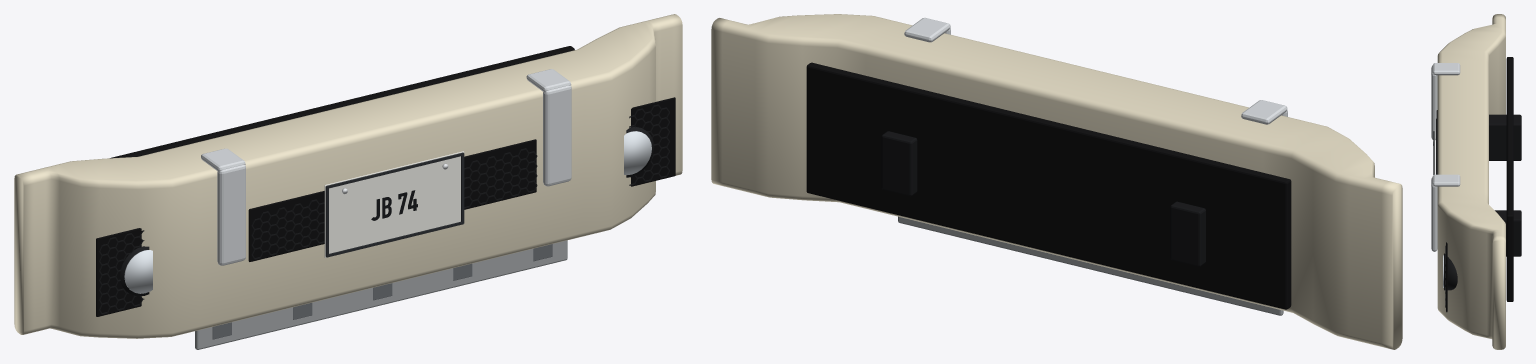
File: frontBumper_damd_little_g_std.glb
3 renders of one model, left to right at view 1: azimuth 30°, elevation 25°; view 2: azimuth 150°, elevation 25°; view 3: azimuth 270°, elevation 25°, orthographic. The views are drawn at different scales.
Parts seen in each view (by area): view 1: body.015, plate.020, centreBay, skid.006, valance.017, rider1, rider-1, bay-1, bay1, fogLens-575, fogLens575, riderTop-1 (+4 smaller); view 2: body.015, valance.017, skid.006, mount1.017, mount-1.017, riderTop1, riderTop-1; view 3: body.015, valance.017, mount-1.017, mount1.017, rider1, rider-1, riderTop1, riderTop-1, fogHsg575, bay1, centreBay, plate.020 (+1 smaller).
Part boxes in pixels (left/top/right/bottom): body.015: left=14, top=14, right=682, bottom=338; plate.020: left=324, top=151, right=464, bottom=257; centreBay: left=248, top=139, right=536, bottom=261; skid.006: left=195, top=240, right=567, bottom=349; valance.017: left=110, top=46, right=574, bottom=158; rider1: left=543, top=85, right=571, bottom=186; rider-1: left=217, top=165, right=245, bottom=265; bay-1: left=96, top=228, right=141, bottom=316; bay1: left=631, top=97, right=675, bottom=186; fogLens-575: left=124, top=250, right=152, bottom=293; fogLens575: left=624, top=131, right=651, bottom=175; riderTop-1: left=201, top=148, right=245, bottom=171; body.015: left=711, top=14, right=1402, bottom=349; valance.017: left=806, top=62, right=1291, bottom=309; skid.006: left=898, top=216, right=1283, bottom=315; mount1.017: left=881, top=131, right=917, bottom=196; mount-1.017: left=1170, top=201, right=1205, bottom=266; riderTop1: left=904, top=17, right=950, bottom=42; riderTop-1: left=1241, top=100, right=1287, bottom=124; body.015: left=1437, top=14, right=1505, bottom=349; valance.017: left=1506, top=57, right=1513, bottom=301; mount-1.017: left=1489, top=114, right=1521, bottom=160; mount1.017: left=1495, top=210, right=1521, bottom=256; rider1: left=1431, top=177, right=1437, bottom=251; rider-1: left=1431, top=66, right=1437, bottom=139; riderTop1: left=1432, top=174, right=1460, bottom=186; riderTop-1: left=1432, top=63, right=1460, bottom=75; fogHsg575: left=1444, top=253, right=1457, bottom=290; bay1: left=1446, top=242, right=1447, bottom=312; centreBay: left=1436, top=110, right=1437, bottom=174; plate.020: left=1434, top=130, right=1435, bottom=174.
Size of the model in its own units: 1.56 by 0.431 by 0.263.
